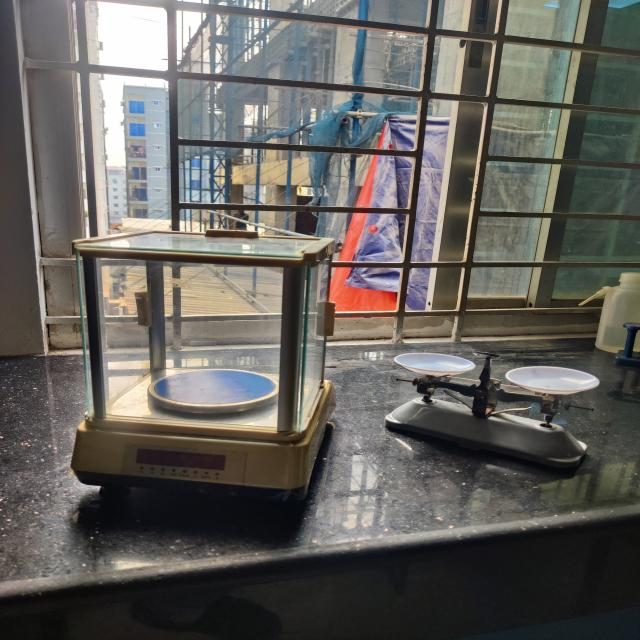Mechanical_Balance_Scale: (369, 332, 618, 496)
Precision_Weight_Scale: (34, 207, 370, 518)
